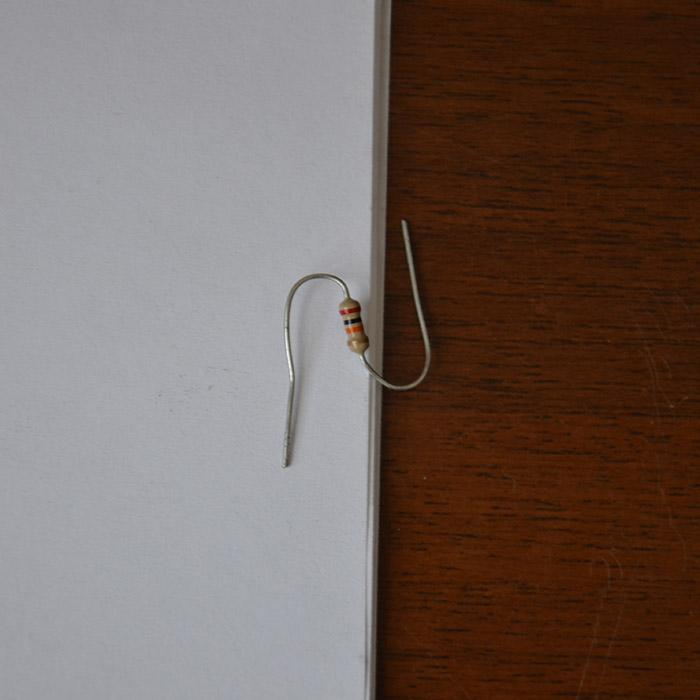resistor: (338, 297, 368, 352)
